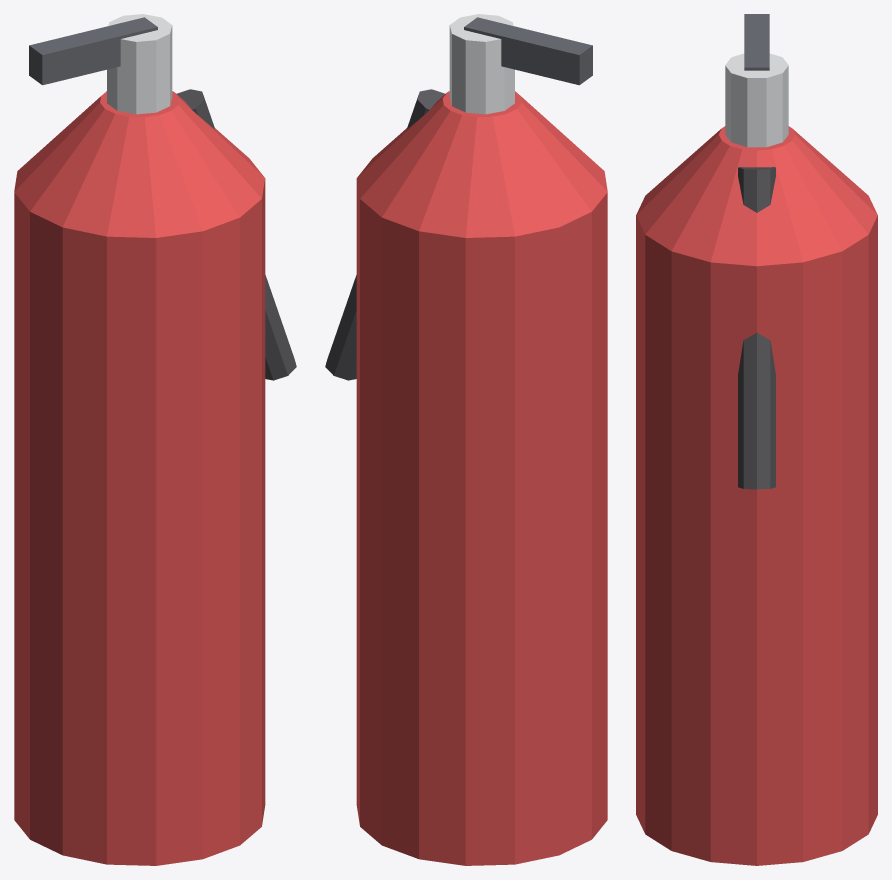
The model's file is Prop_FireExtinguisher.glb.
3 views of the same model, side by side, from view 1: azimuth 30°, elevation 25°; view 2: azimuth 150°, elevation 25°; view 3: azimuth 270°, elevation 25° (orthographic). The views are drawn at different scales.
Parts seen in each view (by area): view 1: Tank, Neck, Valve, Lever, Hose; view 2: Tank, Neck, Valve, Lever, Hose; view 3: Tank, Neck, Hose, Valve, Lever.
Part boxes in pixels (box(x1,y1,x2,y2)): Tank: box(14, 178, 265, 865); Neck: box(14, 91, 264, 237); Valve: box(107, 14, 172, 114); Lever: box(29, 17, 157, 85); Hose: box(176, 89, 296, 380); Tank: box(356, 178, 607, 865); Neck: box(357, 91, 607, 237); Valve: box(449, 14, 514, 114); Lever: box(464, 17, 592, 85); Hose: box(325, 89, 445, 380); Tank: box(636, 215, 877, 865); Neck: box(636, 126, 877, 266); Hose: box(738, 167, 775, 489); Valve: box(725, 53, 788, 147); Lever: box(744, 14, 769, 70).
Size of the model in its own units: 0.2292 by 0.6525 by 0.19.
